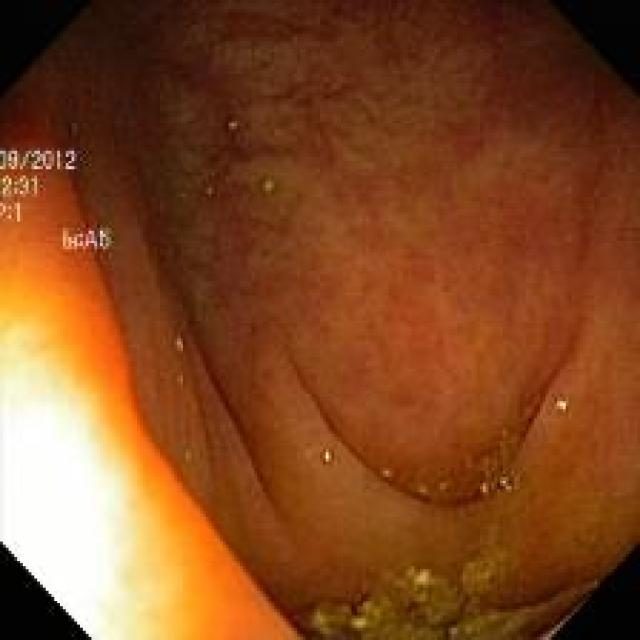ulcerative-colitis-grade-1: (41, 3, 638, 637)
